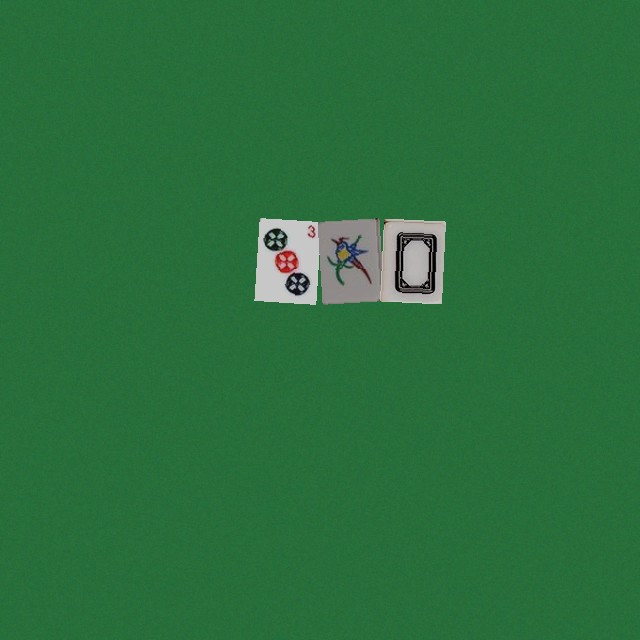tile: (254, 218, 316, 301), (317, 218, 379, 301), (380, 218, 442, 301)
